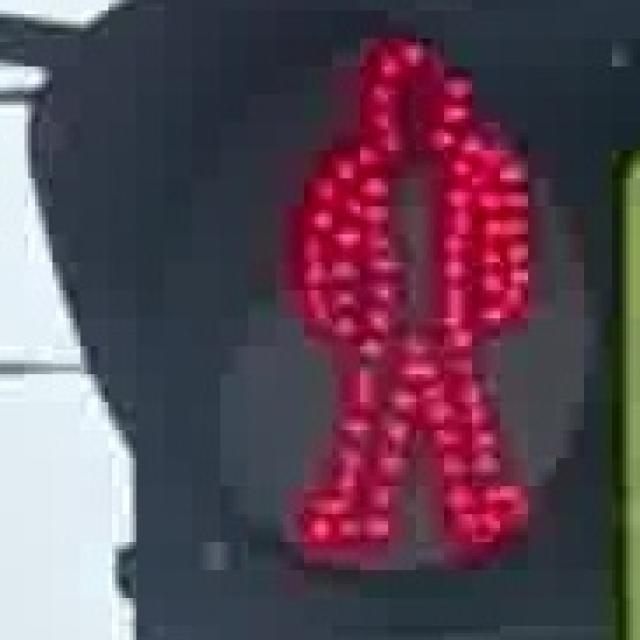red-crossing: (258, 22, 550, 576)
